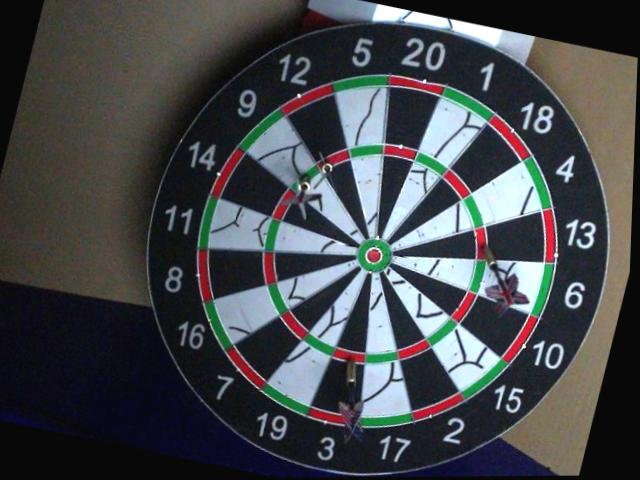triple_12: (319, 152, 348, 168)
triple_13: (474, 230, 491, 258)
triple_3: (331, 346, 365, 367)
triple_9: (290, 170, 318, 193)
